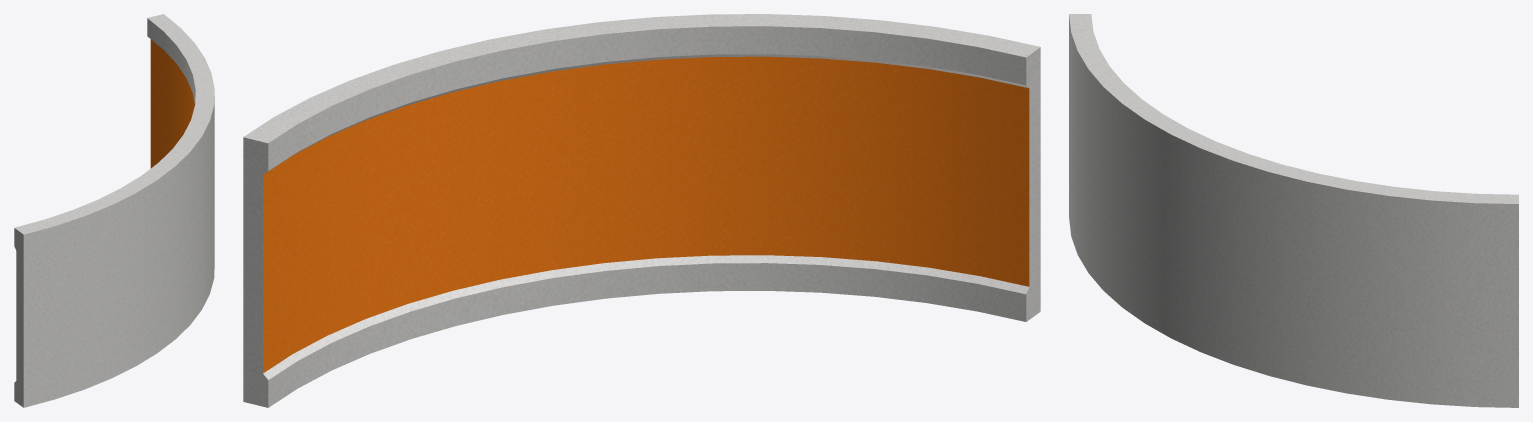
The model's file is Wall_2_Rounded_LOD0.fbx.
The picture shows the model from 3 angles, left to right: view 1: azimuth 30°, elevation 25°; view 2: azimuth 150°, elevation 25°; view 3: azimuth 270°, elevation 25°; orthographic projection. The views are drawn at different scales.
Parts seen in each view (by area): view 1: Wall_2_Rounded_LOD0; view 2: Wall_2_Rounded_LOD0; view 3: Wall_2_Rounded_LOD0.
Boxes of the visible parts, x1,y1,x2,y2 form: Wall_2_Rounded_LOD0: (14,14,214,407); Wall_2_Rounded_LOD0: (243,14,1040,407); Wall_2_Rounded_LOD0: (1069,14,1518,407).
Size of the model in its own units: 400 by 200 by 400.
